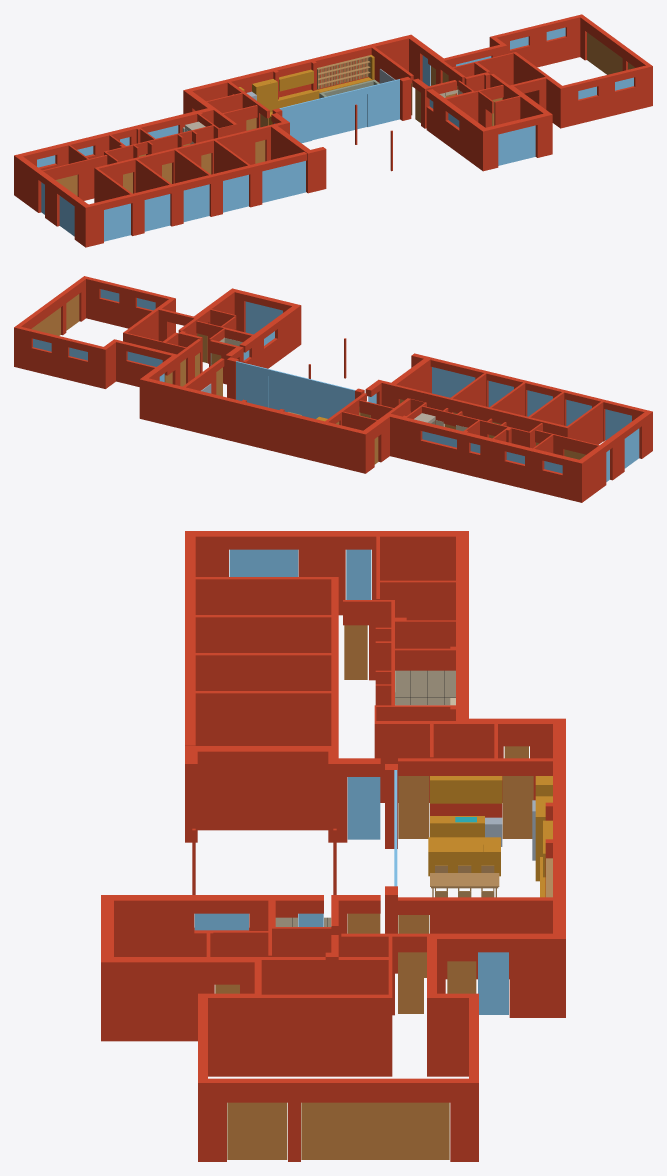
File: ground_floor.glb
3 renders of one model, top to bottom at view 1: azimuth 30°, elevation 25°; view 2: azimuth 150°, elevation 25°; view 3: azimuth 270°, elevation 25°, orthographic. The views are drawn at different scales.
Visible parts, largest first — view 1: masonry (×36), glazing (×9), oak, cabinet (×2), door; view 2: masonry (×33), glazing (×9), door (×2); view 3: masonry (×37), door (×7), glazing (×5), oak.
Part boxes in pixels (left/top/right/bottom): masonry (×36): left=14, top=14, right=652, bottom=247; glazing (×9): left=59, top=79, right=535, bottom=241; oak: left=317, top=55, right=370, bottom=89; cabinet (×2): left=279, top=69, right=314, bottom=107; door: left=587, top=32, right=622, bottom=74; masonry (×33): left=14, top=276, right=652, bottom=502; glazing (×9): left=236, top=301, right=639, bottom=468; door (×2): left=31, top=294, right=79, bottom=335; masonry (×37): left=101, top=531, right=565, bottom=1161; door (×7): left=227, top=625, right=533, bottom=1159; glazing (×5): left=194, top=549, right=508, bottom=1014; oak: left=430, top=873, right=499, bottom=897.
Bounding box in the file's own units: 45.05 × 3.05 × 16.05.
